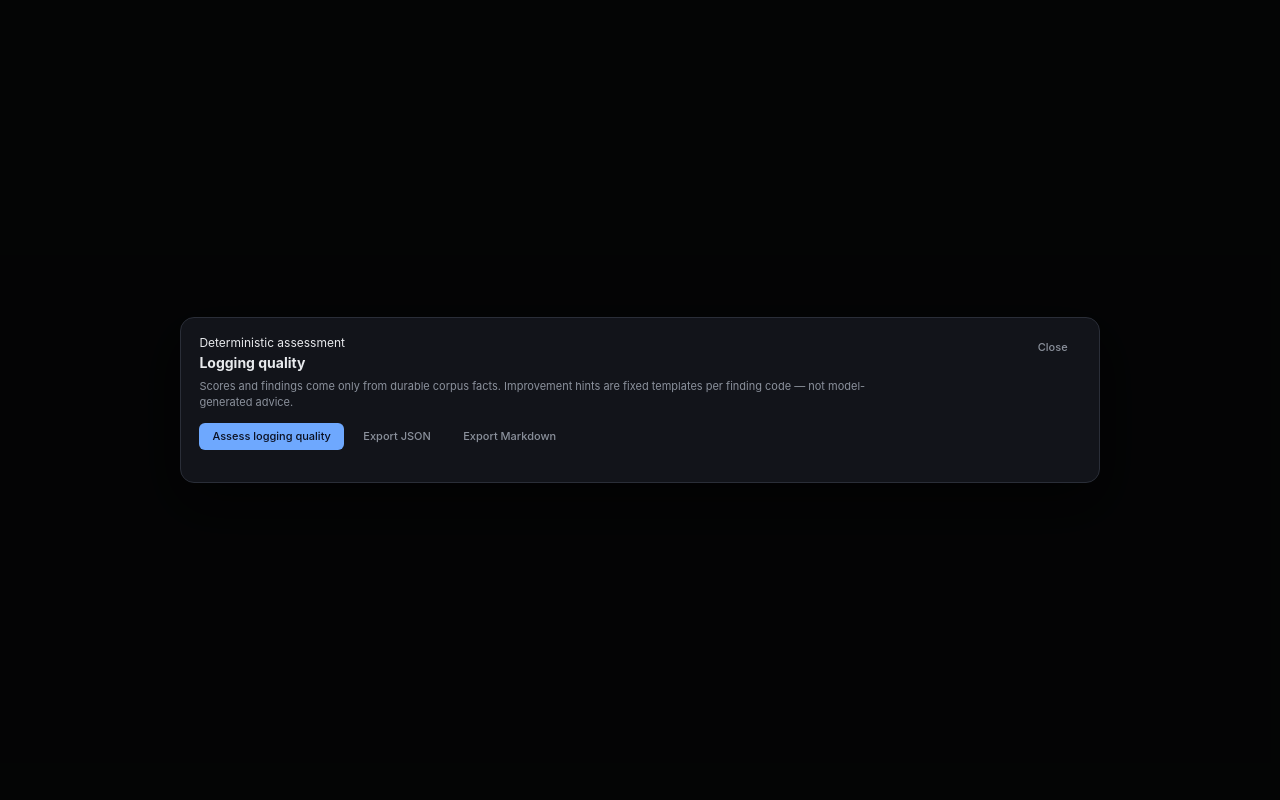
LoggingQualityPanel › surfaces host failure without claiming export wrote a file
Click the button with test id "lqa-run" at {"x": 272, "y": 437}, box [199,423,344,450]
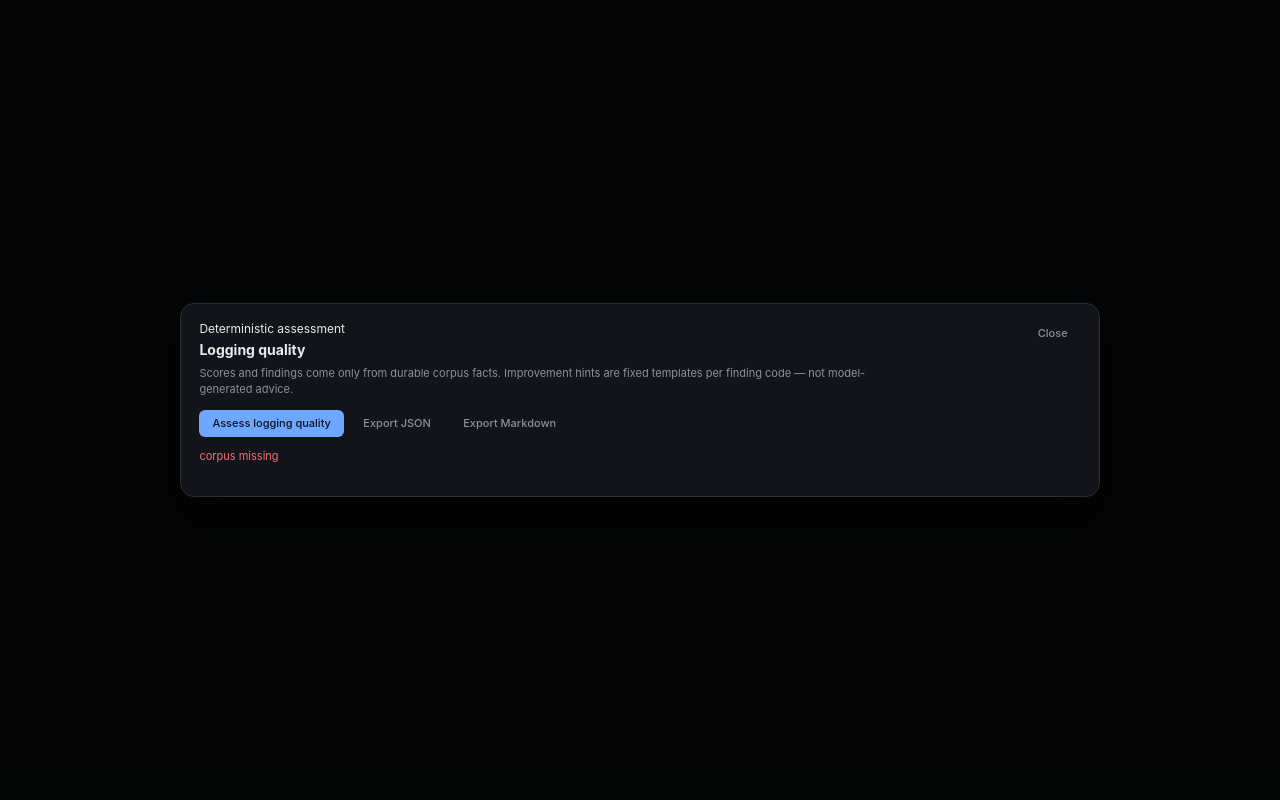
Now the message with test id "lqa-error" reads "corpus missing", box [199,449,279,463]
